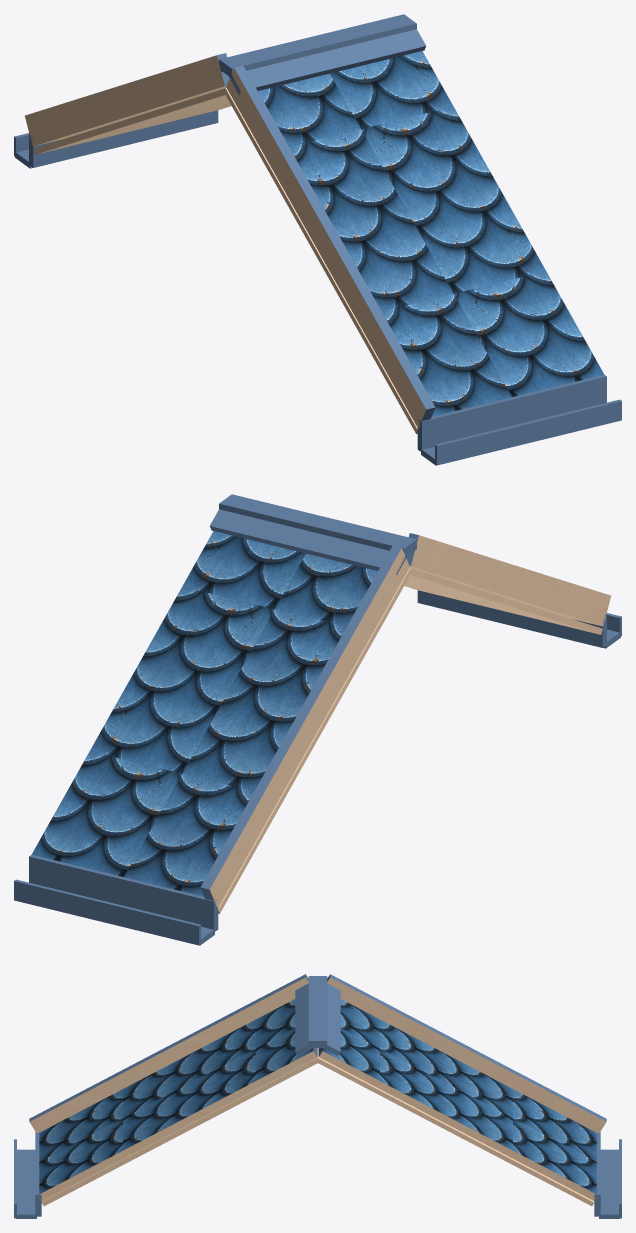
The model's file is Roof3_SectionEdgeL_1m.fbx.
3 views of the same model, one above another, from view 1: azimuth 30°, elevation 25°; view 2: azimuth 150°, elevation 25°; view 3: azimuth 270°, elevation 25° (orthographic). The views are drawn at different scales.
Visible parts, largest first — view 1: Roof3_SectionEdgeL_1m; view 2: Roof3_SectionEdgeL_1m; view 3: Roof3_SectionEdgeL_1m.
Boxes of the visible parts, x1=… form: Roof3_SectionEdgeL_1m: x1=14, y1=14, x2=621, y2=465; Roof3_SectionEdgeL_1m: x1=14, y1=494, x2=621, y2=945; Roof3_SectionEdgeL_1m: x1=14, y1=974, x2=621, y2=1218.
Bounding box in the file's own units: 1 × 1.29 × 3.96.
Materials: 2 (2 with a texture image).
